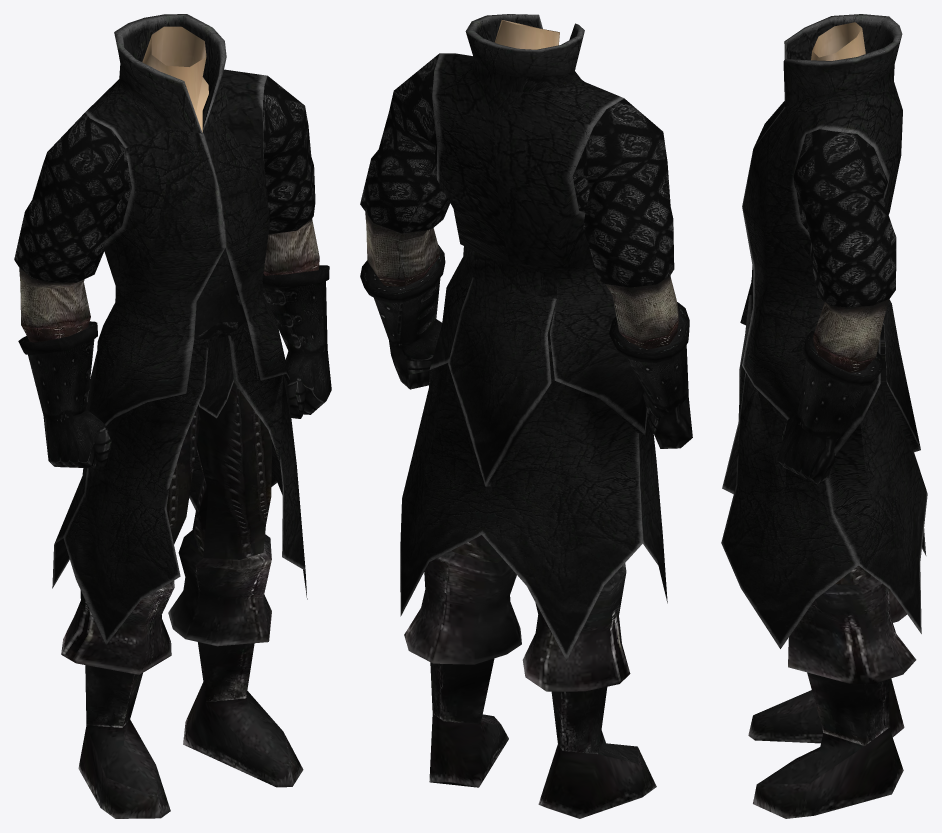
File: ARMOR_WMA_ALHMABBYS.glb
The picture shows the model from 3 angles, left to right: view 1: azimuth 30°, elevation 25°; view 2: azimuth 150°, elevation 25°; view 3: azimuth 270°, elevation 25°; orthographic projection. The views are drawn at different scales.
Parts seen in each view (by area): view 1: ARMOR_WMA_ALHMABBYS; view 2: ARMOR_WMA_ALHMABBYS; view 3: ARMOR_WMA_ALHMABBYS.
Part boxes in pixels (left/top/right/bottom): ARMOR_WMA_ALHMABBYS: left=14, top=14, right=331, bottom=818; ARMOR_WMA_ALHMABBYS: left=360, top=14, right=692, bottom=818; ARMOR_WMA_ALHMABBYS: left=721, top=14, right=927, bottom=818.
Size of the model in its own units: 0.7275 by 1.69 by 0.4269.
3 materials, 3 textured.
